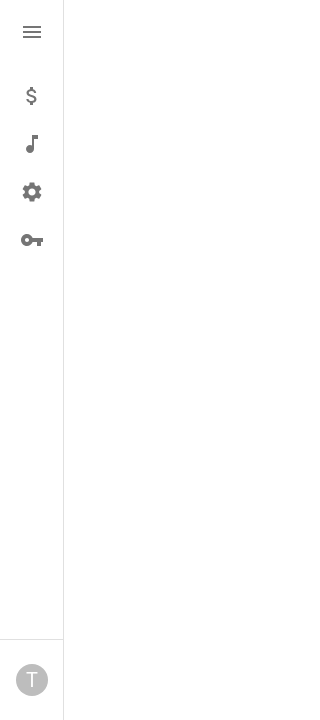
Test: SideMenu › deve usar o email como nome quando displayName não estiver disponível
Click the button named "toggle menu".
click(32, 32)  # box 12,12 -> 52,52
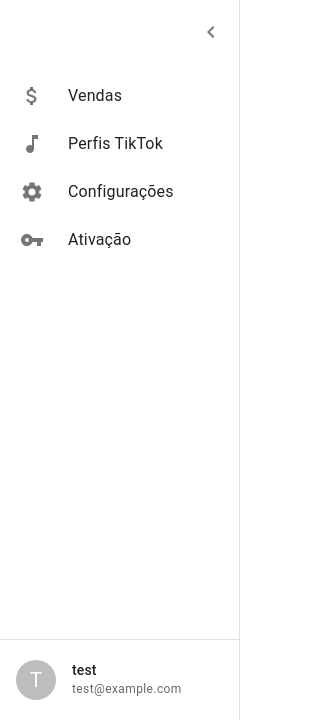
Result: the text "test" is shown at 72,662 -> 97,678
